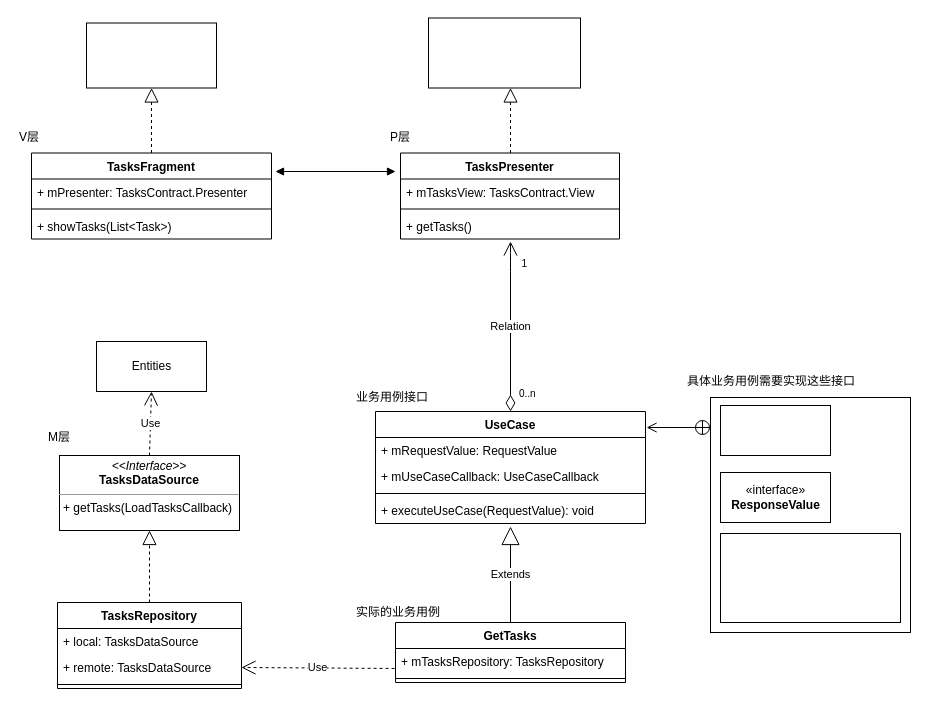
Image size: 928x706. Some labels were removed from this diagram. The shapes that lost their labels are listed below. From the top down, each one's centre as x and y in pixels, then its label:
At point 151,55: "<<Interface>> TasksContract.View + showTasks()".
At point 504,52: "<<Interface>> TasksContract.Presenter + getTasks()".
At point 775,430: "«interface» RequestValues".
At point 810,577: "<<Interface>> UseCaseCallback + onSuccess(ResponseValue) + onError()".
